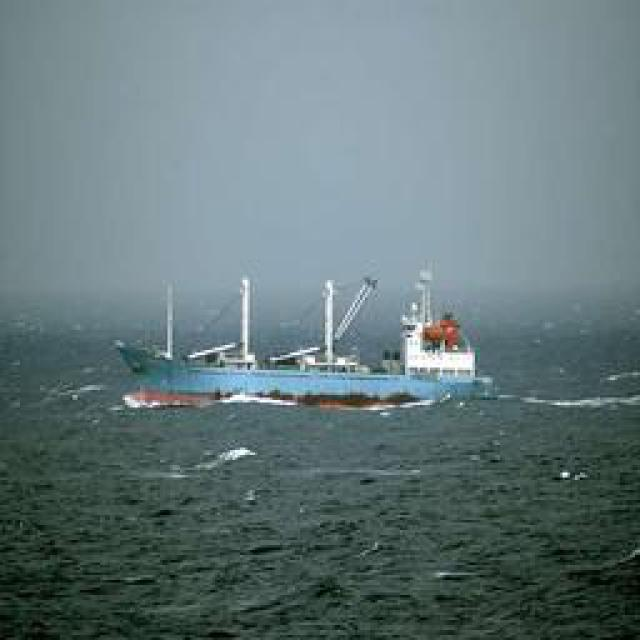Ship: (120, 276, 485, 411)
